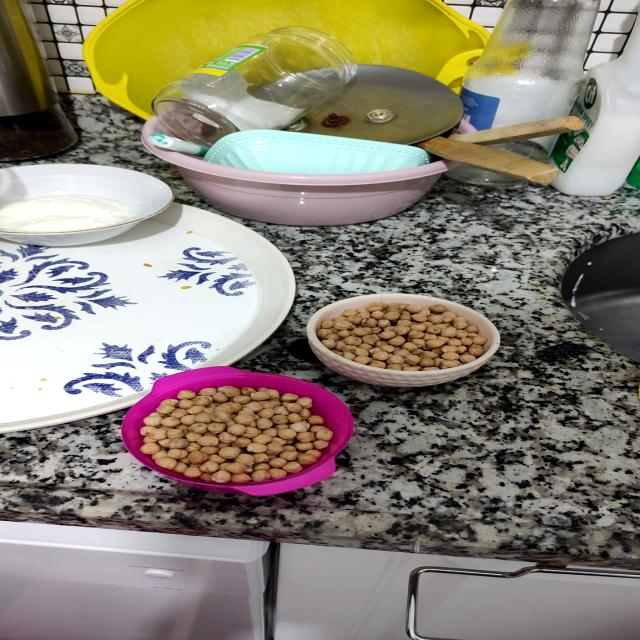chickpeas: (125, 367, 338, 499), (306, 290, 502, 386)
yogurt: (0, 163, 174, 247)
